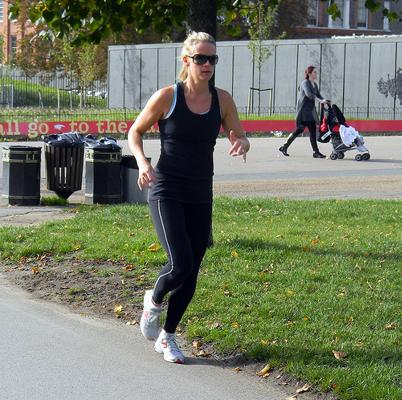person: (127, 31, 252, 365)
